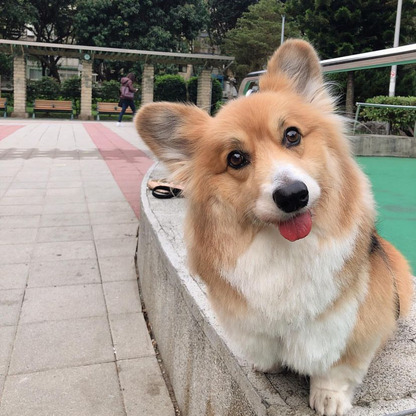Corgi: (133, 48, 411, 393)
